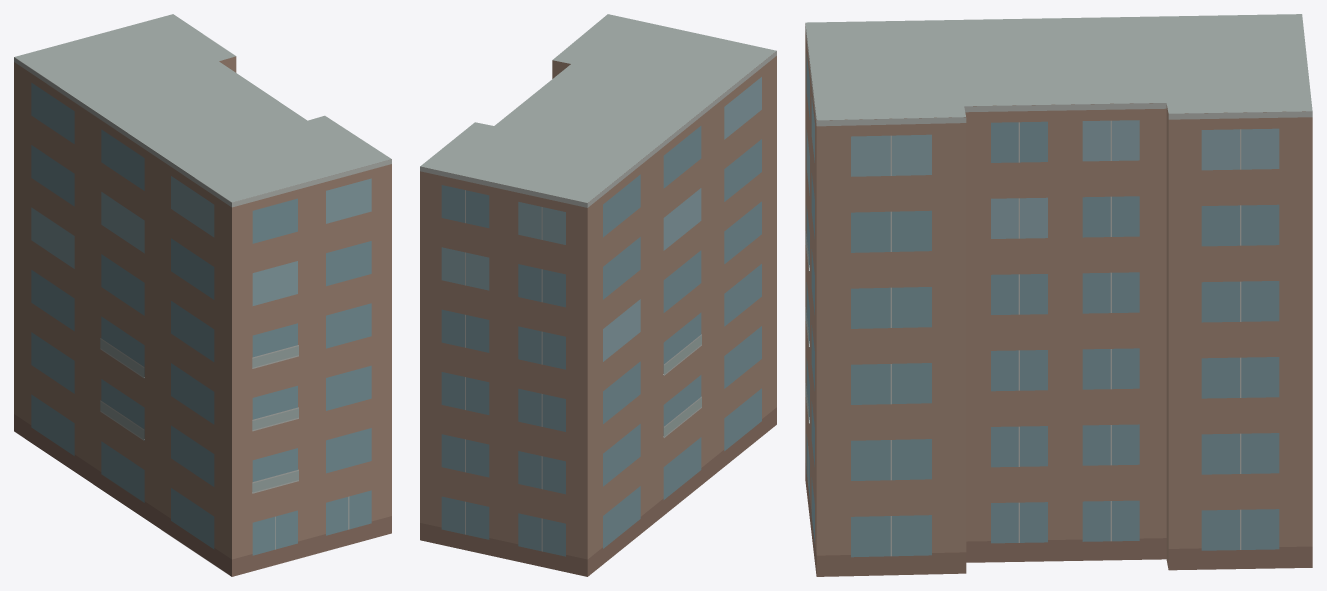
File: survey-upis-32551652.glb
3 views of the same model, side by side, from view 1: azimuth 30°, elevation 25°; view 2: azimuth 150°, elevation 25°; view 3: azimuth 270°, elevation 25° (orthographic). The views are drawn at different scales.
Visible parts, largest first — view 1: survey-upis-32551652.tmp; view 2: survey-upis-32551652.tmp; view 3: survey-upis-32551652.tmp.
Boxes of the visible parts, x1,y1,x2,y2 form: survey-upis-32551652.tmp: [14, 14, 391, 576]; survey-upis-32551652.tmp: [420, 14, 776, 576]; survey-upis-32551652.tmp: [805, 14, 1312, 576].
Size of the model in its own units: 9.36 by 18.7 by 18.84.
